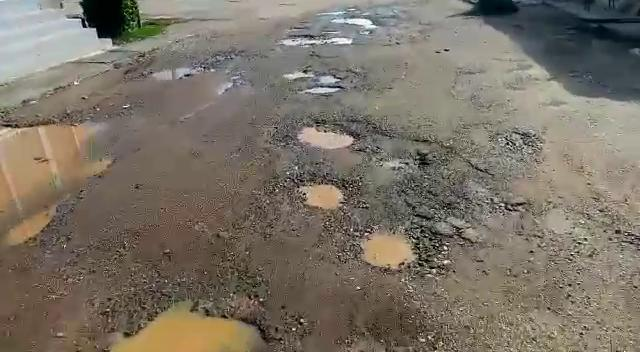pothole: (92, 294, 282, 351), (355, 227, 427, 271), (290, 119, 358, 152), (294, 175, 349, 212), (285, 66, 343, 81), (279, 32, 342, 45), (143, 65, 197, 79), (306, 83, 346, 94)
